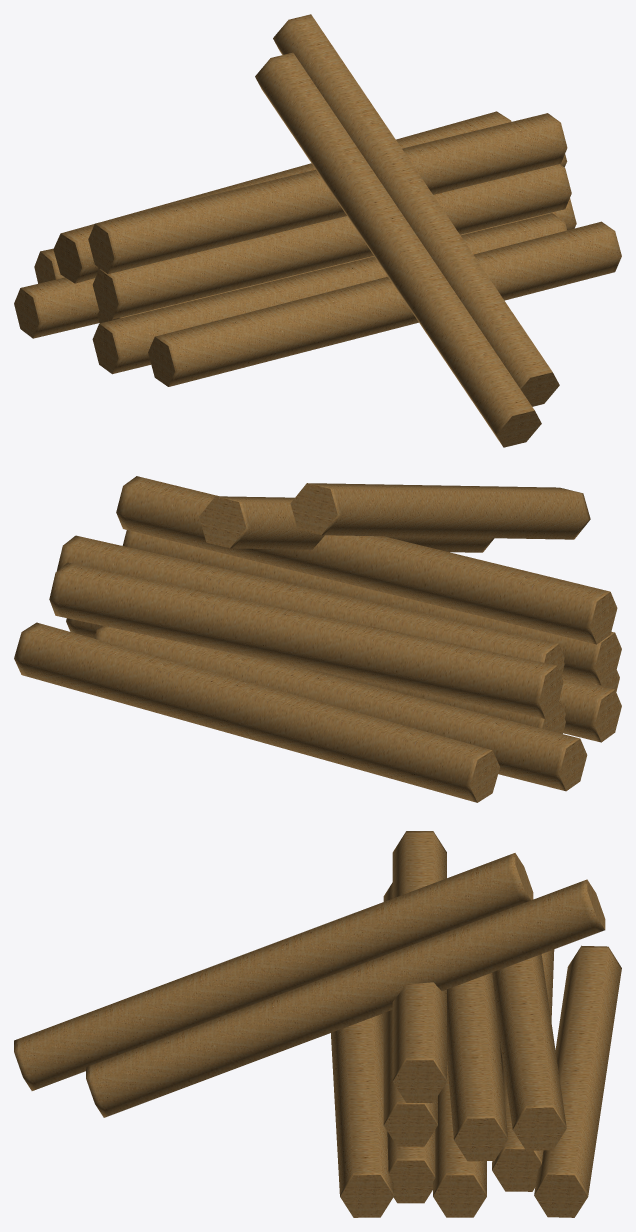
The model's file is WoodenLogs.fbx.
The picture shows the model from 3 angles, top to bottom: view 1: azimuth 30°, elevation 25°; view 2: azimuth 150°, elevation 25°; view 3: azimuth 270°, elevation 25°; orthographic projection. The views are drawn at different scales.
Visible parts, largest first — view 1: Cylinder.009, Cylinder.008, Cylinder.004, Cylinder.007, Cylinder.010, Cylinder.002, Cylinder.006, Cylinder.001, Cylinder, Cylinder.003; view 2: Cylinder.006, Cylinder.003, Cylinder.008, Cylinder.001, Cylinder.009, Cylinder.005, Cylinder.007, Cylinder.010, Cylinder.002, Cylinder; view 3: Cylinder.010, Cylinder.009, Cylinder.003, Cylinder.006, Cylinder.004, Cylinder.005, Cylinder.008, Cylinder, Cylinder.007, Cylinder.001, Cylinder.002.
Part boxes in pixels (x1=…): Cylinder.009: x1=255, y1=52, x2=541, y2=447; Cylinder.008: x1=88, y1=113, x2=567, y2=273; Cylinder.004: x1=148, y1=221, x2=621, y2=386; Cylinder.007: x1=92, y1=164, x2=571, y2=319; Cylinder.010: x1=273, y1=14, x2=559, y2=406; Cylinder.002: x1=92, y1=213, x2=566, y2=374; Cylinder.006: x1=53, y1=111, x2=511, y2=283; Cylinder.001: x1=14, y1=277, x2=99, y2=338; Cylinder: x1=97, y1=198, x2=576, y2=323; Cylinder.003: x1=34, y1=248, x2=64, y2=283; Cylinder.006: x1=49, y1=562, x2=563, y2=718; Cylinder.003: x1=14, y1=622, x2=499, y2=802; Cylinder.008: x1=116, y1=476, x2=617, y2=644; Cylinder.001: x1=94, y1=625, x2=587, y2=791; Cylinder.009: x1=290, y1=483, x2=590, y2=539; Cylinder.005: x1=56, y1=535, x2=564, y2=675; Cylinder.007: x1=122, y1=530, x2=621, y2=685; Cylinder.010: x1=199, y1=496, x2=494, y2=552; Cylinder.002: x1=559, y1=676, x2=621, y2=742; Cylinder: x1=66, y1=618, x2=565, y2=733; Cylinder.010: x1=86, y1=879, x2=605, y2=1117; Cylinder.009: x1=14, y1=853, x2=533, y2=1090; Cylinder.003: x1=534, y1=945, x2=621, y2=1217; Cylinder.006: x1=492, y1=954, x2=566, y2=1150; Cylinder.004: x1=331, y1=1013, x2=394, y2=1217; Cylinder.005: x1=447, y1=972, x2=507, y2=1161; Cylinder.008: x1=392, y1=831, x2=446, y2=1102; Cylinder: x1=433, y1=1061, x2=486, y2=1217; Cylinder.007: x1=383, y1=882, x2=437, y2=1146; Cylinder.001: x1=492, y1=949, x2=554, y2=1191; Cylinder.002: x1=387, y1=1130, x2=435, y2=1203.
Size of the model in its own units: 2232 by 937 by 2242.
1 material, 1 textured.
